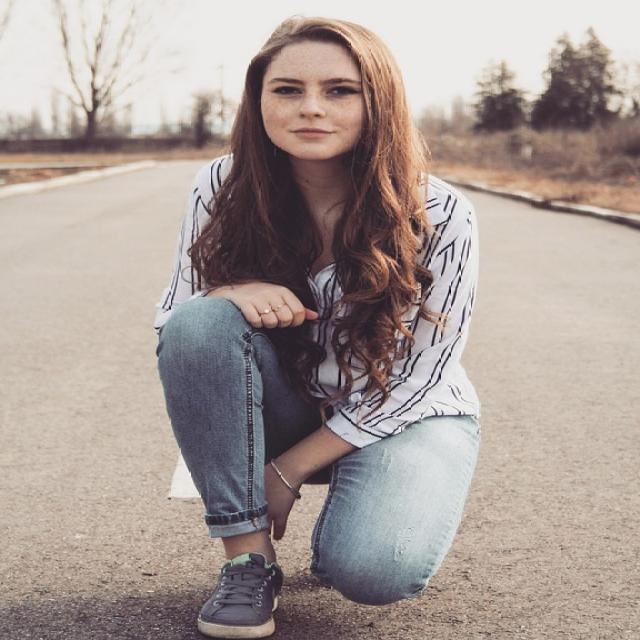mobile_phonerotation: (152, 14, 484, 636)
